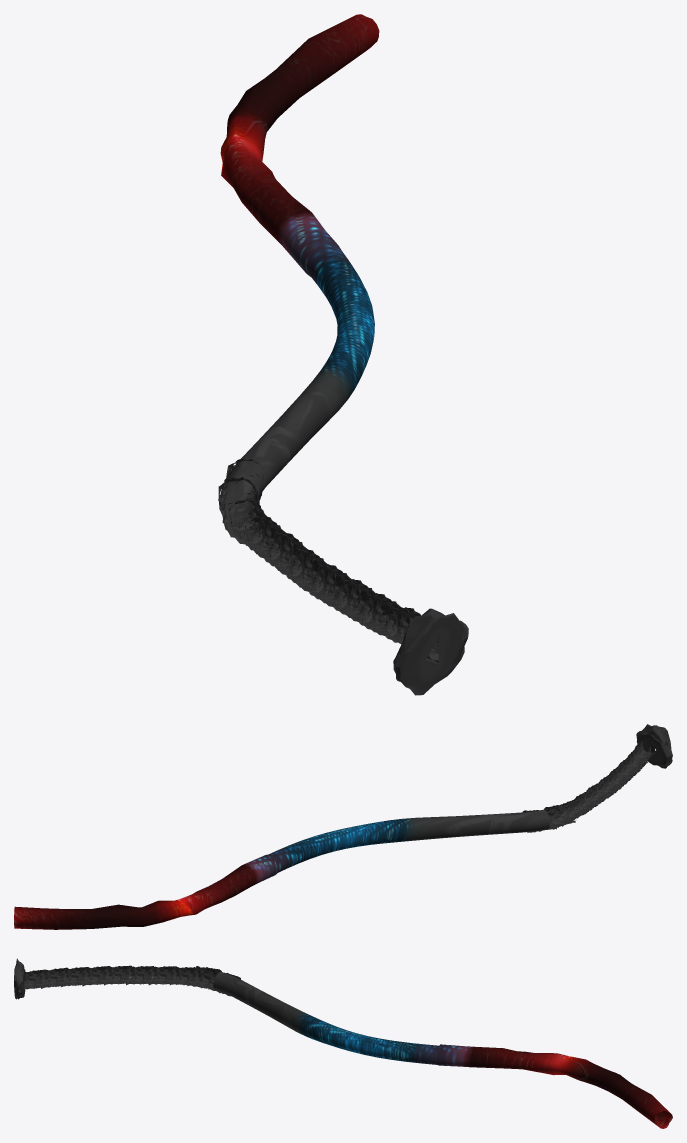
File: LGTTBmain.glb
3 views of the same model, one above another, from view 1: azimuth 30°, elevation 25°; view 2: azimuth 150°, elevation 25°; view 3: azimuth 270°, elevation 25° (orthographic). The views are drawn at different scales.
Parts seen in each view (by area): view 1: polySurface1, Rock_B.024, Cube.007, Cube.008, Cube.006, Cube.005, Cube.010, Cube.012, Cube.009, Cube.011; view 2: polySurface1, Rock_B.024, Cube.012; view 3: polySurface1, Cube.009, Cube.010, Cube.011, Cube.012, Cube.007, Cube.008, Cube.006, Cube.005, Rock_B.024, Cube.004.
Boxes of the visible parts, x1=… form: polySurface1: x1=220, y1=14, x2=379, y2=512; Rock_B.024: x1=393, y1=608, x2=468, y2=695; Cube.007: x1=311, y1=564, x2=365, y2=614; Cube.008: x1=287, y1=548, x2=340, y2=599; Cube.006: x1=336, y1=579, x2=390, y2=632; Cube.005: x1=361, y1=593, x2=414, y2=642; Cube.010: x1=245, y1=515, x2=295, y2=566; Cube.012: x1=218, y1=477, x2=262, y2=544; Cube.009: x1=266, y1=532, x2=316, y2=583; Cube.011: x1=228, y1=499, x2=276, y2=550; polySurface1: x1=14, y1=809, x2=549, y2=929; Rock_B.024: x1=636, y1=724, x2=672, y2=768; Cube.012: x1=544, y1=803, x2=576, y2=828; polySurface1: x1=213, y1=972, x2=672, y2=1128; Cube.009: x1=126, y1=966, x2=155, y2=985; Cube.010: x1=148, y1=966, x2=177, y2=985; Cube.011: x1=169, y1=967, x2=199, y2=985; Cube.012: x1=187, y1=966, x2=221, y2=989; Cube.007: x1=82, y1=966, x2=110, y2=986; Cube.008: x1=103, y1=965, x2=132, y2=985; Cube.006: x1=61, y1=967, x2=89, y2=987; Cube.005: x1=41, y1=967, x2=68, y2=988; Rock_B.024: x1=14, y1=958, x2=25, y2=999; Cube.004: x1=23, y1=969, x2=47, y2=989.
Size of the model in its own units: 91.04 by 11.43 by 168.
4 materials, 4 textured.
